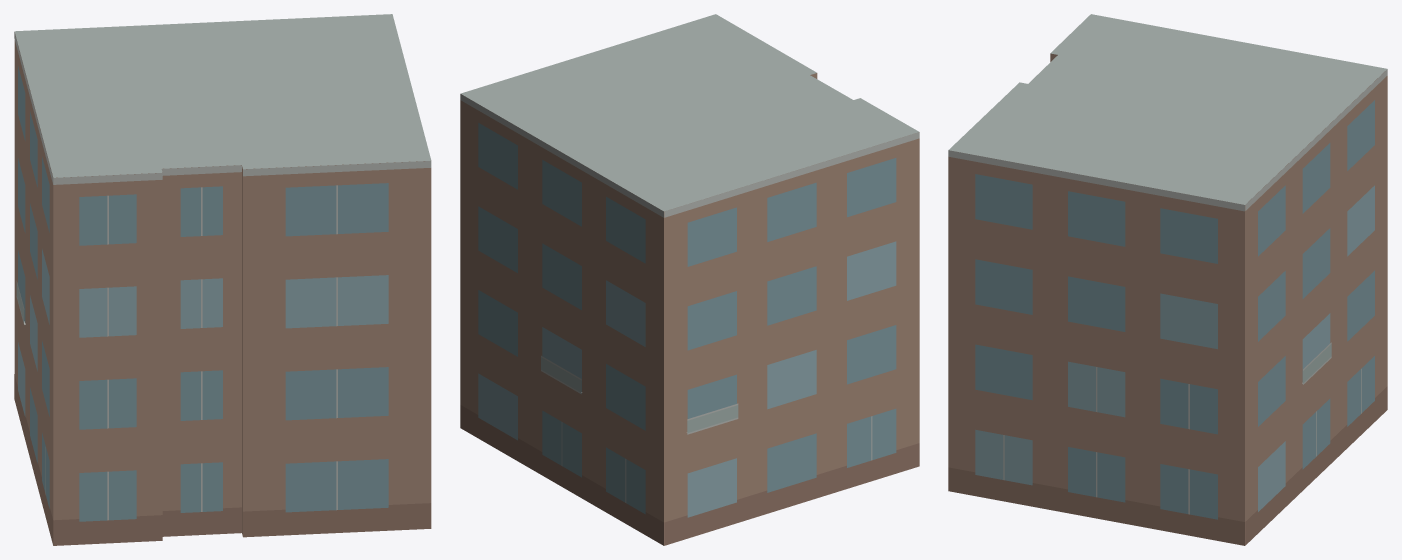
The model's file is survey-upis-33046951.glb.
The picture shows the model from 3 angles, left to right: view 1: azimuth 30°, elevation 25°; view 2: azimuth 150°, elevation 25°; view 3: azimuth 270°, elevation 25°; orthographic projection. The views are drawn at different scales.
Visible parts, largest first — view 1: survey-upis-33046951.tmp; view 2: survey-upis-33046951.tmp; view 3: survey-upis-33046951.tmp.
Boxes of the visible parts, left/top/right/bottom form: survey-upis-33046951.tmp: left=14, top=14, right=431, bottom=545; survey-upis-33046951.tmp: left=460, top=14, right=919, bottom=545; survey-upis-33046951.tmp: left=948, top=14, right=1387, bottom=545.
Size of the model in its own units: 15.32 by 12.75 by 14.89.
